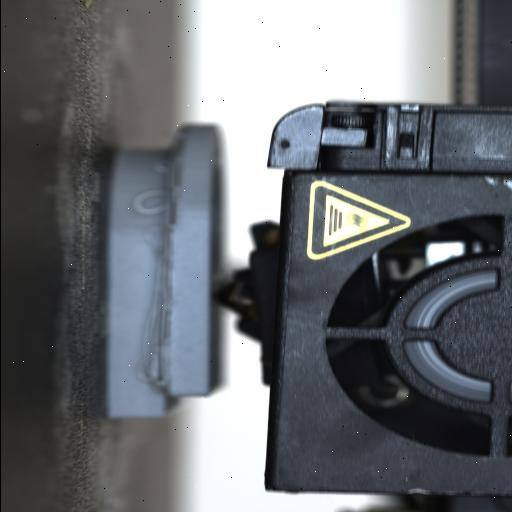layer_shift: (139, 115, 195, 425)
